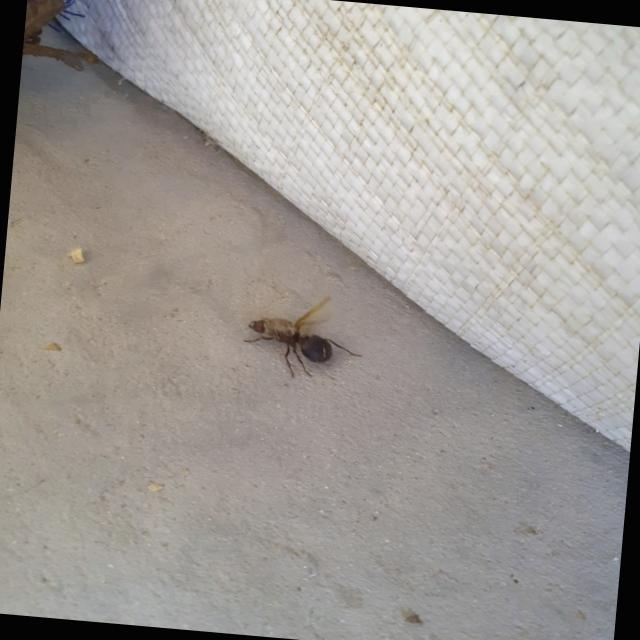Alive-Female-Alate: (240, 288, 368, 384)
